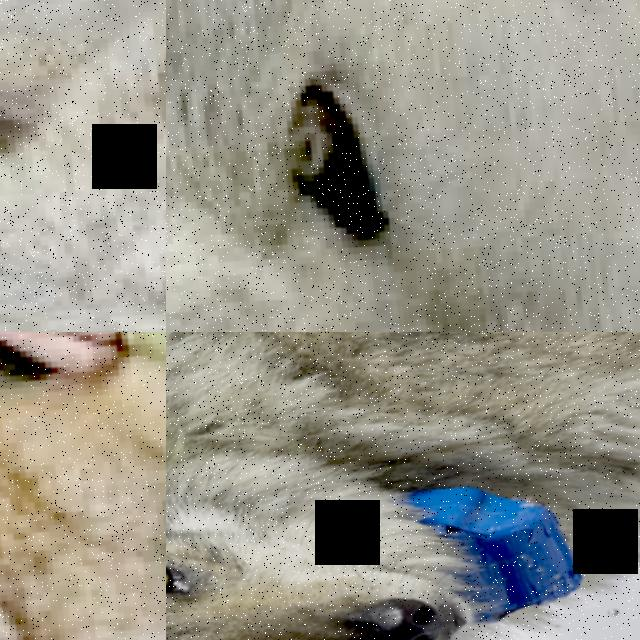dog: (0, 332, 166, 640)
wolf: (166, 0, 640, 332), (166, 332, 640, 640), (0, 0, 166, 332)
